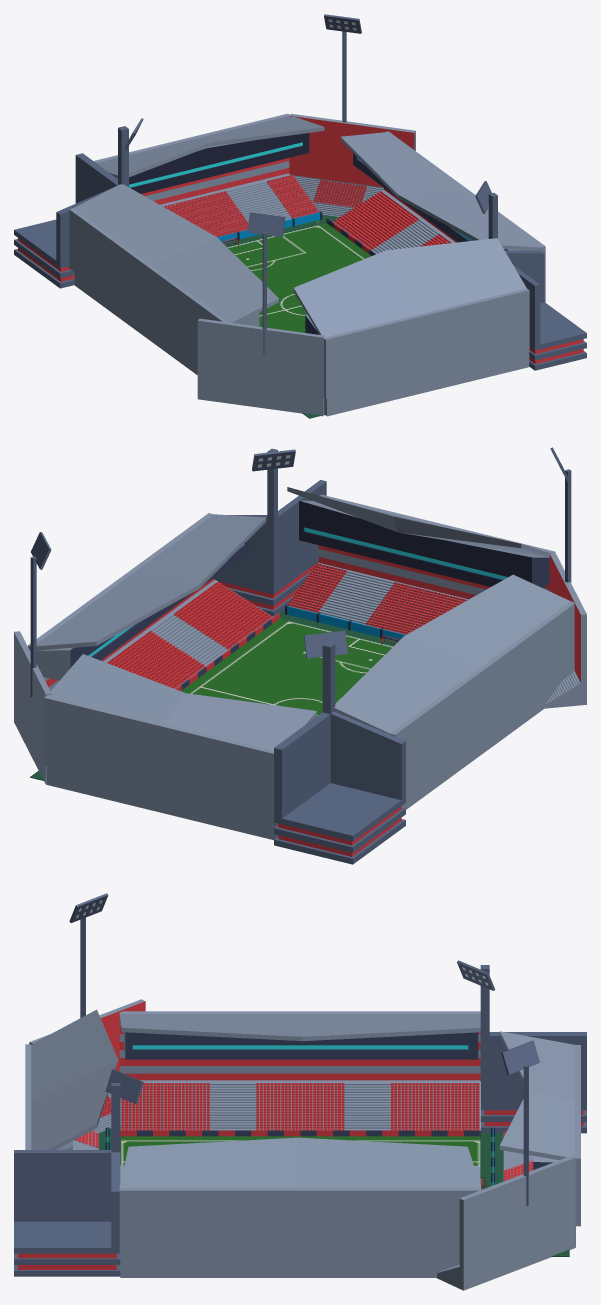
Rendered from Football Stadium.fbx.
3 renders of one model, top to bottom at view 1: azimuth 30°, elevation 25°; view 2: azimuth 150°, elevation 25°; view 3: azimuth 270°, elevation 25°, orthographic. The views are drawn at different scales.
Parts seen in each view (by area): view 1: High End, Cube.029, Corner Seats Red.001, Cube.030, Cube, Low End, Corner Seats, Cube.037, Cube.020, Cube.038, Cube.011, Cube.015 (+11 smaller); view 2: Cube.029, Low End, Cube.037, Cube.030, Cube, Cube.035, Cube.020, High End, Cube.015, Cube.011, Cube.008, Corner Seats (+13 smaller); view 3: Cube.030, Cube.029, Cube.020, Corner Seats, Cube.002, High End, Cube.039, Low End, Cube.005, Cube.037, Cube, Cube.001 (+10 smaller).
Part boxes in pixels (<box>): High End: <box>293,238,529,398</box>; Cube.029: <box>69,184,278,361</box>; Corner Seats Red.001: <box>197,318,324,416</box>; Cube.030: <box>340,131,545,302</box>; Cube: <box>223,215,371,418</box>; Low End: <box>94,113,324,204</box>; Corner Seats: <box>289,113,415,216</box>; Cube.037: <box>14,126,128,288</box>; Cube.020: <box>488,192,586,370</box>; Cube.038: <box>129,133,309,193</box>; Cube.011: <box>324,349,529,416</box>; Cube.015: <box>160,173,318,236</box>; Cube.029: <box>334,574,574,794</box>; Low End: <box>44,654,316,821</box>; Cube.037: <box>274,642,405,864</box>; Cube.030: <box>28,513,266,690</box>; Cube: <box>30,609,397,780</box>; Cube.035: <box>299,500,549,587</box>; Cube.020: <box>214,448,326,616</box>; High End: <box>287,487,555,599</box>; Cube.015: <box>46,766,278,840</box>; Cube.011: <box>290,562,468,634</box>; Cube.008: <box>174,581,272,649</box>; Corner Seats: <box>14,631,51,784</box>; Cube.030: <box>119,1137,481,1258</box>; Cube.029: <box>119,1011,480,1081</box>; Cube.020: <box>14,1083,120,1276</box>; Corner Seats: <box>437,1155,575,1290</box>; Cube.002: <box>120,1080,480,1130</box>; High End: <box>25,1009,118,1149</box>; Cube.039: <box>124,1032,478,1059</box>; Low End: <box>499,1031,580,1226</box>; Cube.005: <box>120,1258,459,1277</box>; Cube.037: <box>480,965,586,1133</box>; Cube: <box>98,1125,569,1256</box>; Cube.001: <box>256,1083,344,1130</box>.
Size of the model in its own units: 15871 by 7994 by 19113.
